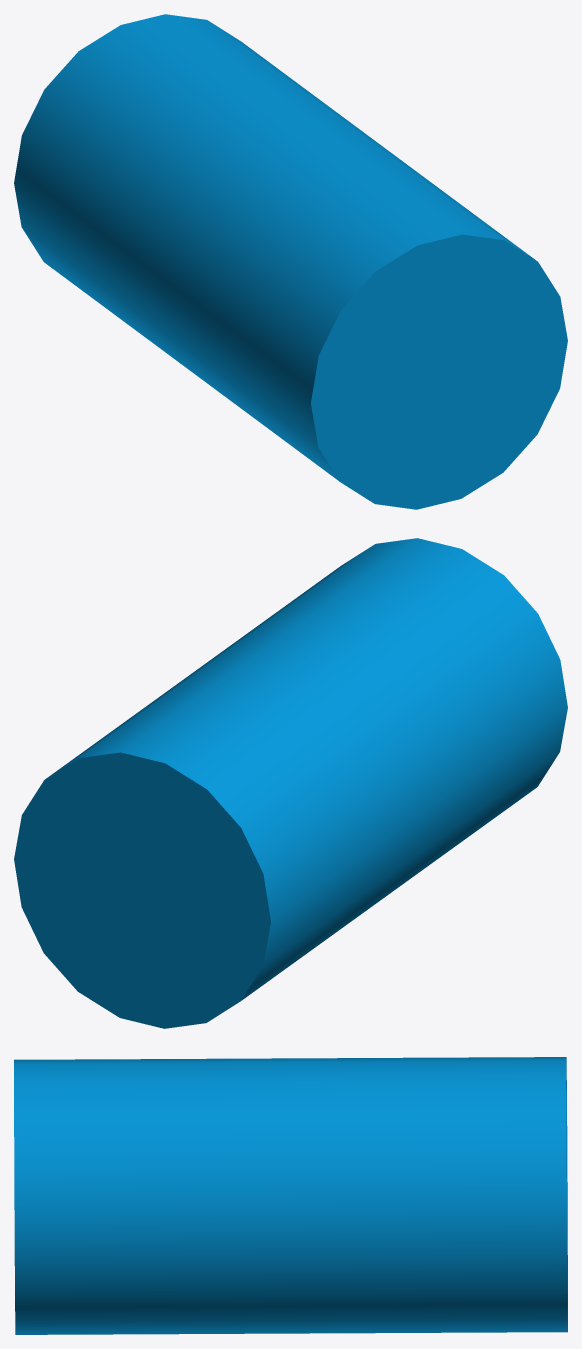
The model's file is bullet3.FBX.
3 views of the same model, one above another, from view 1: azimuth 30°, elevation 25°; view 2: azimuth 150°, elevation 25°; view 3: azimuth 270°, elevation 25° (orthographic). The views are drawn at different scales.
Visible parts, largest first — view 1: Cylinder001; view 2: Cylinder001; view 3: Cylinder001.
Boxes of the visible parts, bbox=[...] form: Cylinder001: bbox=[14, 14, 567, 509]; Cylinder001: bbox=[14, 538, 567, 1028]; Cylinder001: bbox=[14, 1057, 567, 1334].
Size of the model in its own units: 100 by 201 by 99.6.
1 material, 1 textured.
